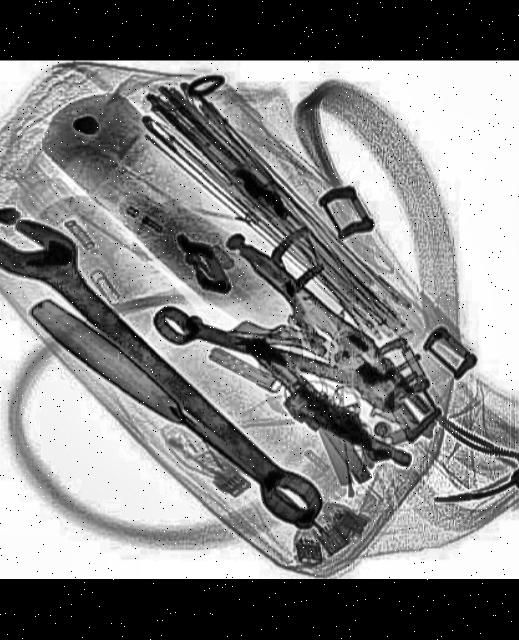Gun: (223, 339, 430, 472)
Knife: (22, 295, 335, 550)
Wrench: (0, 199, 339, 548), (145, 305, 405, 414)
